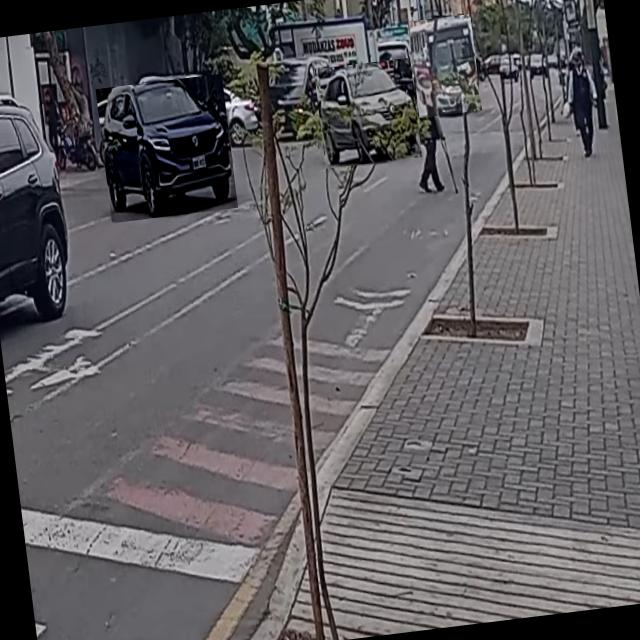bus: (408, 13, 482, 118)
car: (0, 84, 87, 364), (95, 73, 238, 223), (314, 57, 422, 168)
